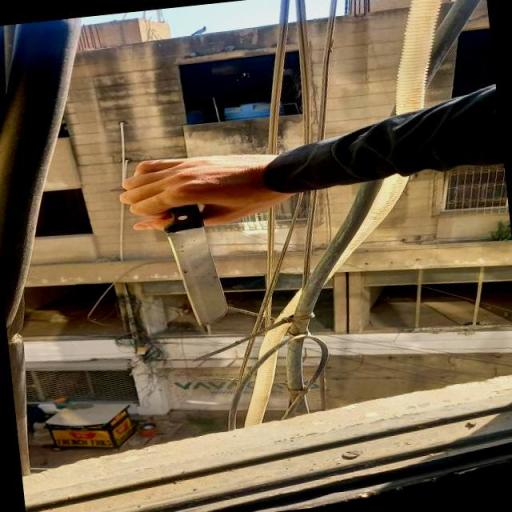knife: (162, 202, 230, 329)
